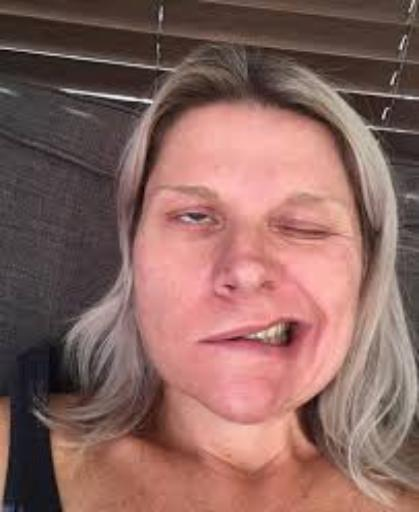left_eye: (271, 213, 333, 242)
left_lip_corner: (291, 316, 314, 336)
right_eye: (165, 209, 223, 234)
right_lip_corner: (195, 334, 214, 352)
